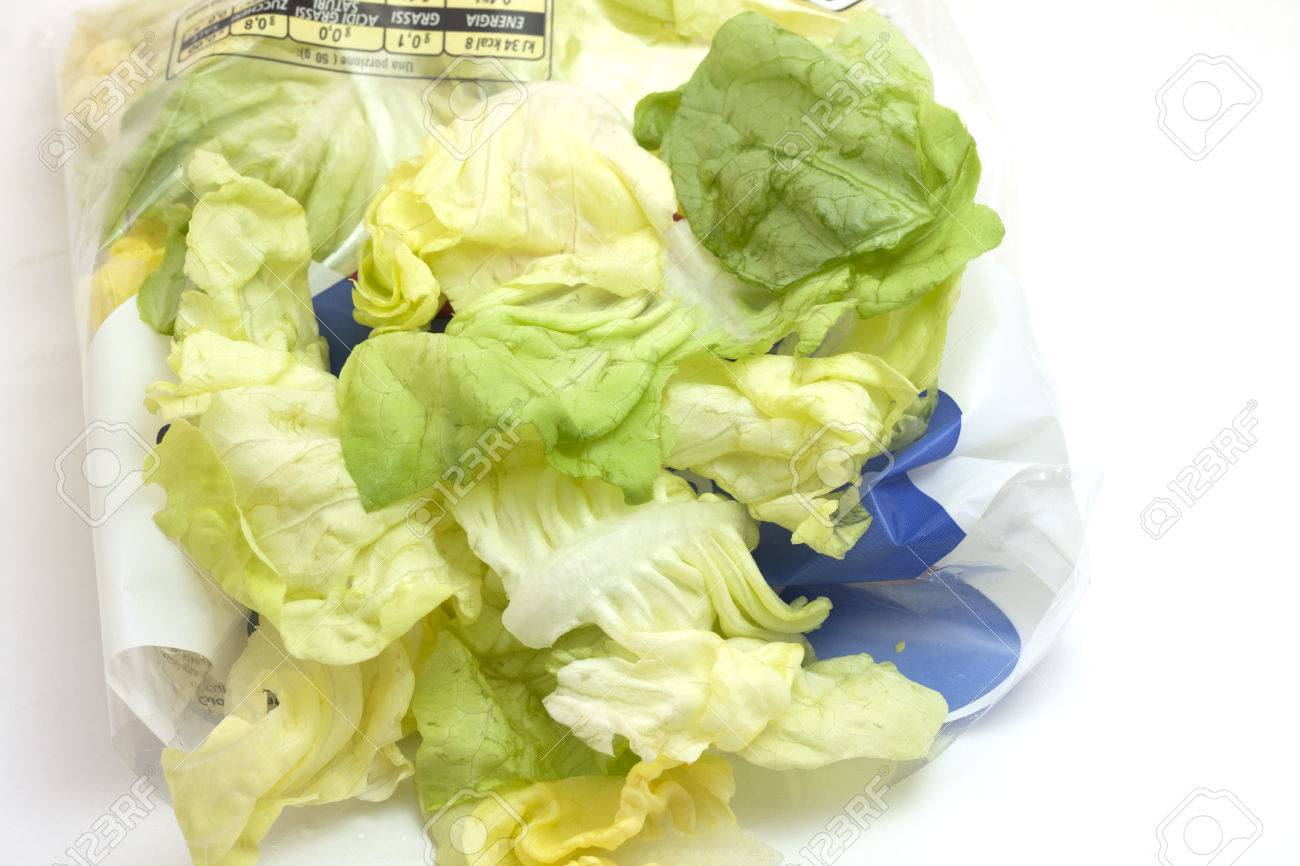chopped lettuce: (70, 12, 993, 866)
